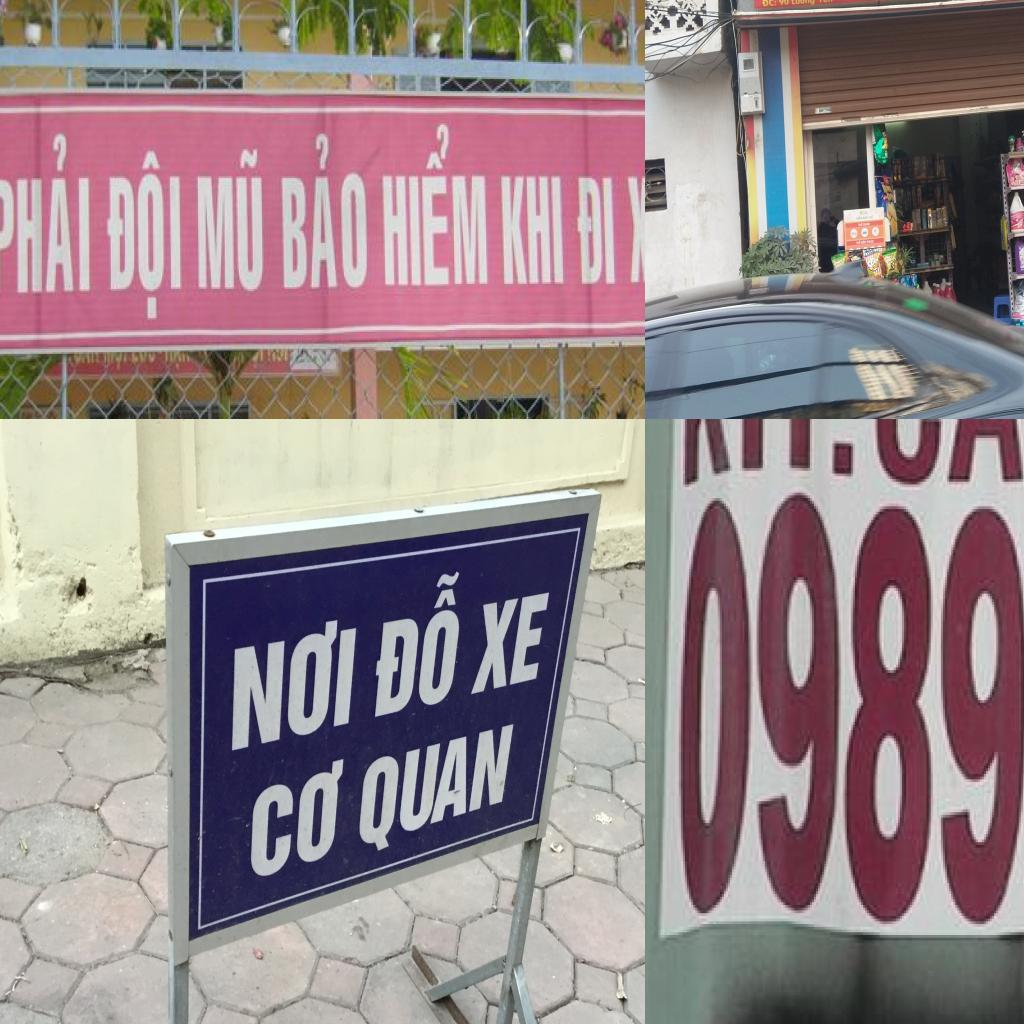text: (379, 123, 491, 289), (226, 617, 359, 754), (0, 131, 93, 297), (275, 132, 369, 296), (371, 568, 464, 724), (106, 148, 185, 322), (245, 751, 346, 881), (869, 419, 1024, 495), (676, 419, 820, 498), (194, 146, 266, 294), (467, 586, 551, 700), (498, 171, 566, 289), (577, 173, 618, 287), (624, 171, 645, 287), (824, 424, 861, 484), (790, 0, 816, 7), (865, 257, 879, 270), (761, 0, 777, 8), (871, 261, 879, 272), (778, 0, 789, 7), (816, 0, 833, 4), (855, 216, 863, 222), (867, 239, 875, 245), (861, 239, 867, 246), (868, 214, 874, 220), (863, 222, 870, 227), (862, 215, 868, 220), (855, 240, 861, 245), (858, 222, 863, 227)
